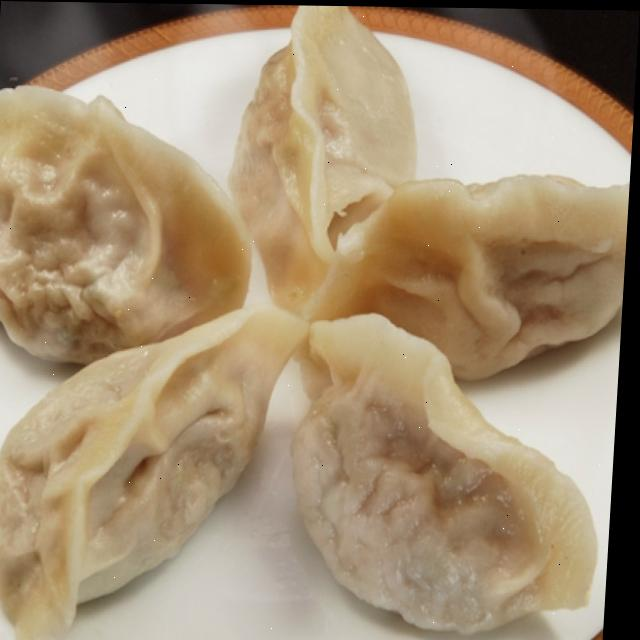带馅早点: (0, 2, 632, 633)
